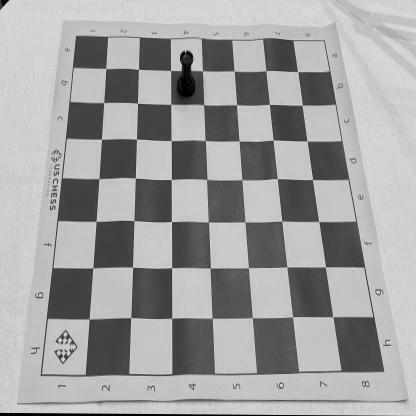black-rook: (177, 50, 196, 98)
